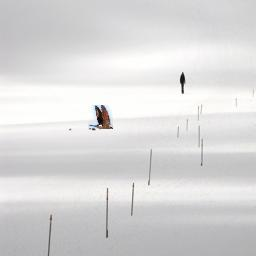Cuckoo: (89, 105, 114, 129)
